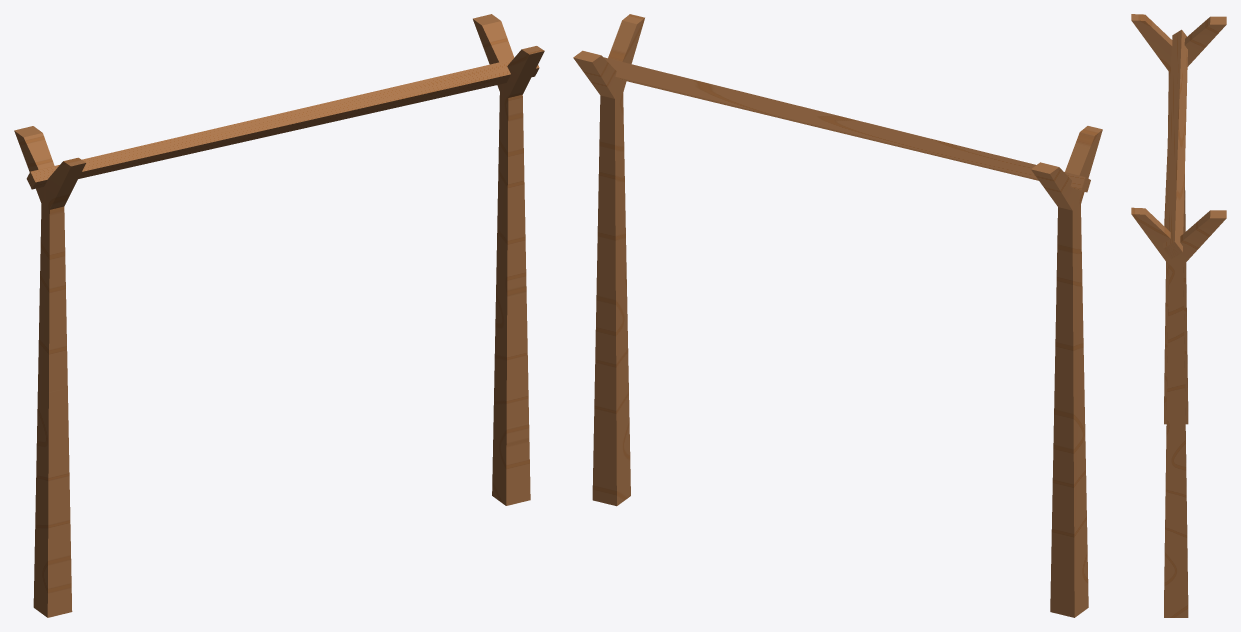
The model's file is Hanger.fbx.
The picture shows the model from 3 angles, left to right: view 1: azimuth 30°, elevation 25°; view 2: azimuth 150°, elevation 25°; view 3: azimuth 270°, elevation 25°; orthographic projection. The views are drawn at different scales.
Parts seen in each view (by area): view 1: Hanger; view 2: Hanger; view 3: Hanger.
Boxes of the visible parts, <box> form: Hanger: <box>14,14,544,617</box>; Hanger: <box>573,14,1102,617</box>; Hanger: <box>1131,14,1226,617</box>.
Size of the model in its own units: 240 by 213 by 45.9.
1 material, 1 textured.
